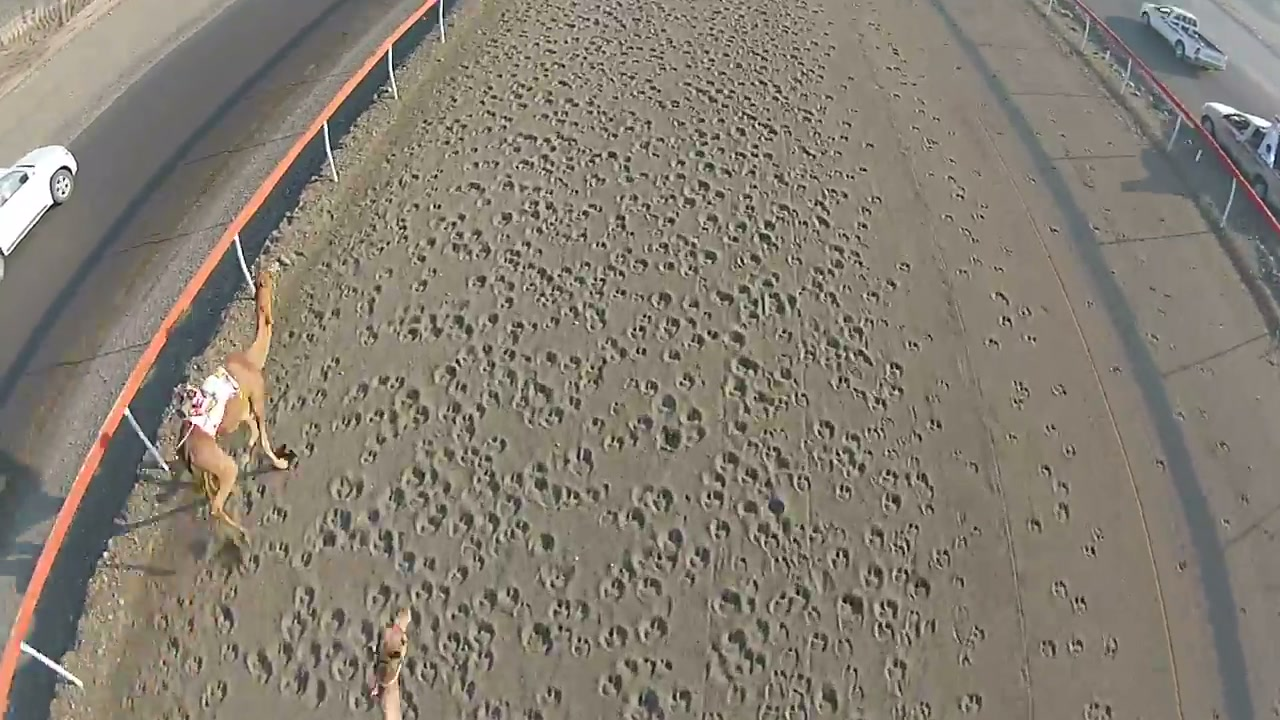animal_foot_print: (69, 0, 1157, 719)
